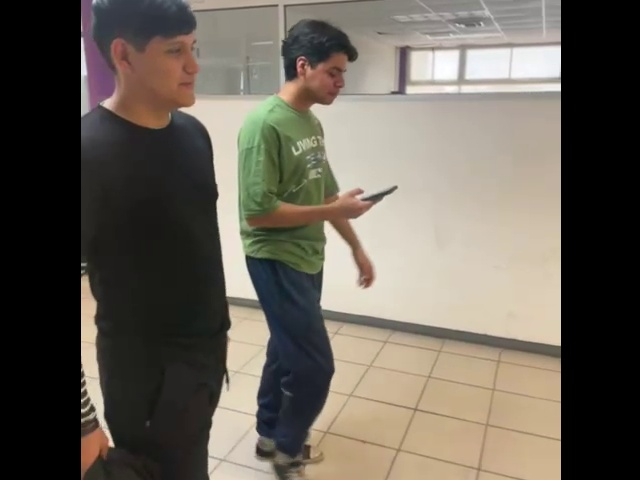mixto2: (352, 176, 400, 204)
